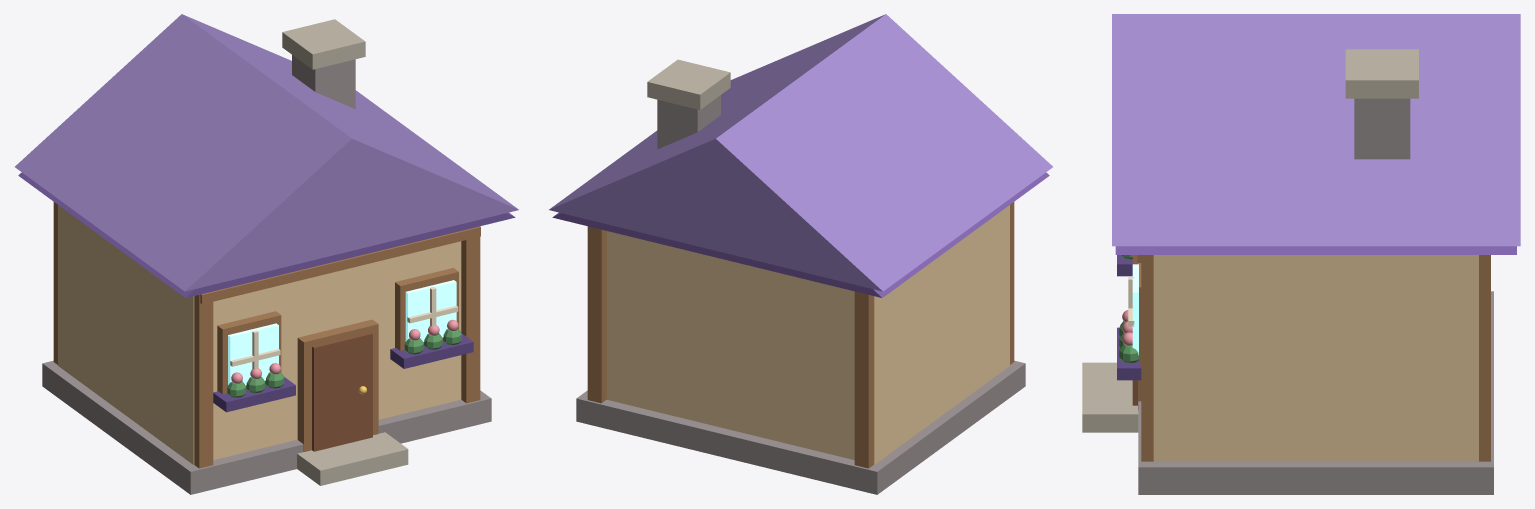
The model's file is cottage-lavender.gltf.
3 renders of one model, left to right at view 1: azimuth 30°, elevation 25°; view 2: azimuth 150°, elevation 25°; view 3: azimuth 270°, elevation 25°, orthographic. The views are drawn at different scales.
Parts seen in each view (by area): view 1: roof_roofLight, box_wall, box_trim (×7), box_stone (×2), box_stoneLight (×2), box_bark, box_glass (×2), roof_roof, box_roofDark (×2); view 2: roof_roofLight, box_wall, box_stone (×2), box_trim (×3), roof_roof, box_stoneLight; view 3: roof_roofLight, box_wall, box_stone (×2), box_stoneLight (×2), box_trim (×2), roof_roof, box_glass, box_roofDark.
Part boxes in pixels (x1,y1,x2,y2): roof_roofLight: (15, 14, 518, 291); box_wall: (58, 205, 461, 464); box_trim (×7): (53, 202, 480, 468); box_stone (×2): (42, 55, 491, 494); box_stoneLight (×2): (282, 19, 408, 485); box_bark: (312, 332, 372, 451); box_glass (×2): (228, 280, 456, 385); roof_roof: (18, 172, 515, 297); box_roofDark (×2): (213, 333, 473, 412); roof_roofLight: (549, 14, 1052, 291); box_wall: (606, 205, 1009, 464); box_stone (×2): (576, 95, 1025, 494); box_trim (×3): (587, 202, 1014, 468); roof_roof: (552, 172, 1049, 297); box_stoneLight: (647, 59, 730, 109); roof_roofLight: (1112, 14, 1520, 246); box_wall: (1153, 255, 1478, 461); box_stone (×2): (1138, 98, 1493, 494); box_stoneLight (×2): (1082, 49, 1418, 432); box_trim (×2): (1141, 255, 1490, 461); roof_roof: (1115, 246, 1516, 254); box_glass: (1132, 264, 1138, 355); box_roofDark: (1117, 327, 1141, 380).
Size of the model in its own units: 4.56 by 4.27 by 4.31.
